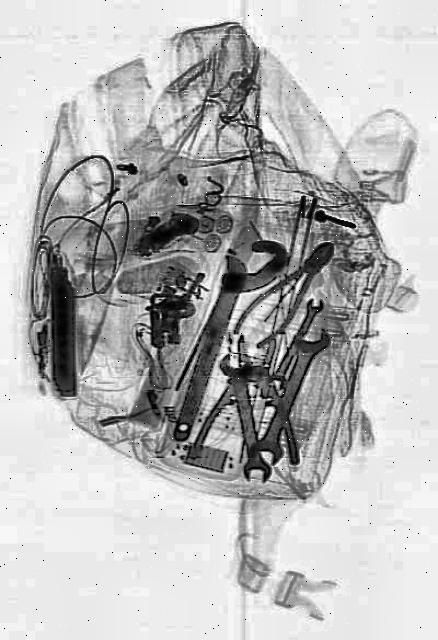Pliers: (194, 323, 312, 469), (232, 220, 346, 364)
Wrench: (247, 311, 336, 474), (218, 346, 278, 488), (268, 290, 330, 398)
